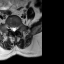CCS_stenosis: (13, 24, 15, 33)
LFS_normal: (17, 24, 19, 30)
LLS_normal: (15, 24, 17, 31)
RFS_normal: (8, 24, 11, 31)
RLS_normal: (11, 24, 13, 32)
